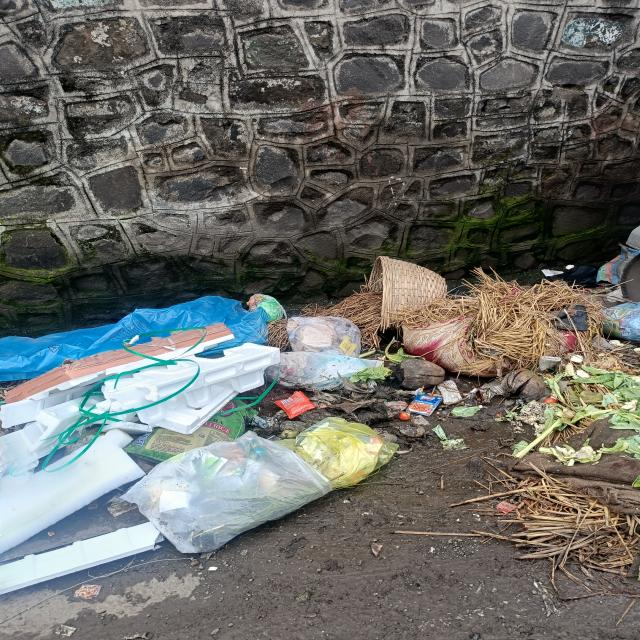garbage: (0, 270, 640, 574)
